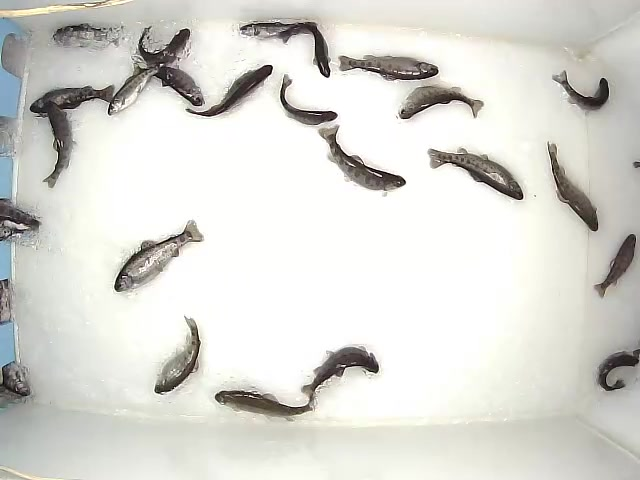fish: (113, 219, 205, 294), (317, 124, 407, 197), (426, 146, 525, 201), (546, 140, 599, 233), (185, 64, 273, 119), (300, 344, 380, 402), (152, 314, 203, 396), (216, 390, 318, 424), (132, 63, 207, 108), (278, 72, 338, 127), (108, 61, 166, 117), (592, 233, 637, 302), (397, 83, 485, 118), (277, 22, 331, 78), (550, 69, 611, 118), (336, 54, 440, 82), (137, 25, 191, 68), (596, 351, 640, 393), (240, 20, 318, 41)
